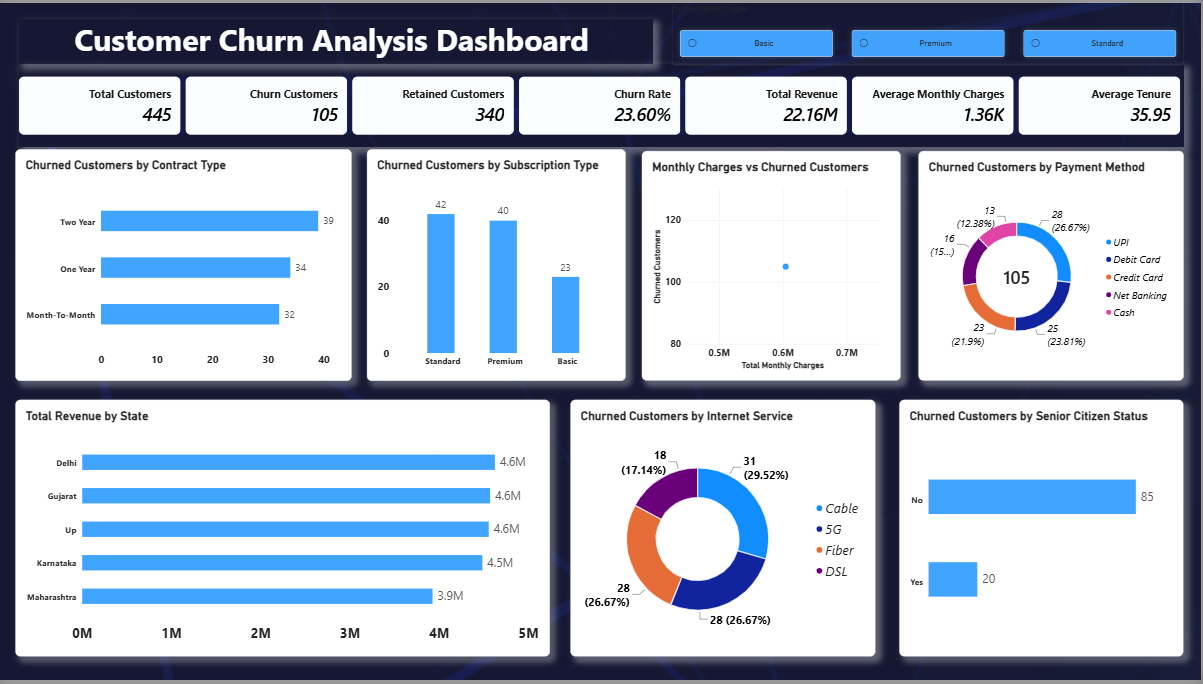

The dashboard page shown, as its layout file describes it:
{"tool":"powerbi","page":{"name":"Page 1","canvas":[1920,1080],"ordinal":0},"visuals":[{"type":"cardVisual","fields":{"Data":["DAX Measure.Total Customers","DAX Measure.Churn Customers","DAX Measure.Retained Customers","DAX Measure.Churn Rate","DAX Measure.Total Revenue","DAX Measure.Average Monthly Charges","DAX Measure.Average Tenure"]},"box":[33.3,96.7,1860,133.3],"z":0},{"type":"textbox","box":[34.4,25.8,1012,71.7],"z":3000},{"type":"clusteredBarChart","title":"Churned Customers by Contract Type","fields":{"Category":["Clean_Churn_Data.Contract_Type"],"Y":["Sum(Clean_Churn_Data.Churn_Flag)"]},"box":[26.7,233.3,536.7,370],"z":4000},{"type":"columnChart","title":"Churned Customers by Subscription Type","fields":{"Category":["Clean_Churn_Data.Subscription_Type"],"Y":["Sum(Clean_Churn_Data.Churn_Flag)"]},"box":[590,233.3,413.3,370],"z":5000},{"type":"scatterChart","title":"Monthly Charges vs Churned Customers","fields":{"X":["Sum(Clean_Churn_Data.Monthly_Charges)"],"Y":["Sum(Clean_Churn_Data.Churn_Flag)"]},"box":[1026.7,236.7,413.3,366.7],"z":6000},{"type":"barChart","title":"Total Revenue by State","fields":{"Category":["Clean_Churn_Data.State"],"Y":["DAX Measure.Total Revenue"]},"box":[26.7,633.3,853.3,410],"z":7000},{"type":"donutChart","title":"Churned Customers by Internet Service","fields":{"Category":["Clean_Churn_Data.Internet_Service"],"Y":["Sum(Clean_Churn_Data.Churn_Flag)"]},"box":[913.3,633.3,486.7,410],"z":8000},{"type":"donutChart","title":"Churned Customers by Payment Method","fields":{"Category":["Clean_Churn_Data.Payment_Method"],"Y":["Sum(Clean_Churn_Data.Churn_Flag)"]},"box":[1470,236.7,423.3,366.7],"z":9000},{"type":"barChart","title":"Churned Customers by Senior Citizen Status","fields":{"Category":["Clean_Churn_Data.Senior_Citizen"],"Y":["Sum(Clean_Churn_Data.Churn_Flag)"]},"box":[1440,633.3,453.3,410],"z":10000},{"type":"advancedSlicerVisual","fields":{"Values":["Clean_Churn_Data.Subscription_Type"]},"box":[1077.9,0,814.2,97.5],"z":11000}]}

Visuals, with their boxes in screenshot pixels (x1, y1, x2, y2), scaled from the page's 1920x1080 canvas onto the 1203x684 screenshot:
cardVisual - DAX Measure.Total Customers x DAX Measure.Churn Customers: detection(21, 61, 1186, 146)
textbox: detection(22, 16, 656, 62)
"Churned Customers by Contract Type" clusteredBarChart: detection(17, 148, 353, 382)
"Churned Customers by Subscription Type" columnChart: detection(370, 148, 629, 382)
"Monthly Charges vs Churned Customers" scatterChart: detection(643, 150, 902, 382)
"Total Revenue by State" barChart: detection(17, 401, 551, 661)
"Churned Customers by Internet Service" donutChart: detection(572, 401, 877, 661)
"Churned Customers by Payment Method" donutChart: detection(921, 150, 1186, 382)
"Churned Customers by Senior Citizen Status" barChart: detection(902, 401, 1186, 661)
advancedSlicerVisual - Clean_Churn_Data.Subscription_Type: detection(675, 0, 1186, 62)
